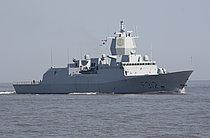MIL_Ship: (13, 18, 192, 95)
